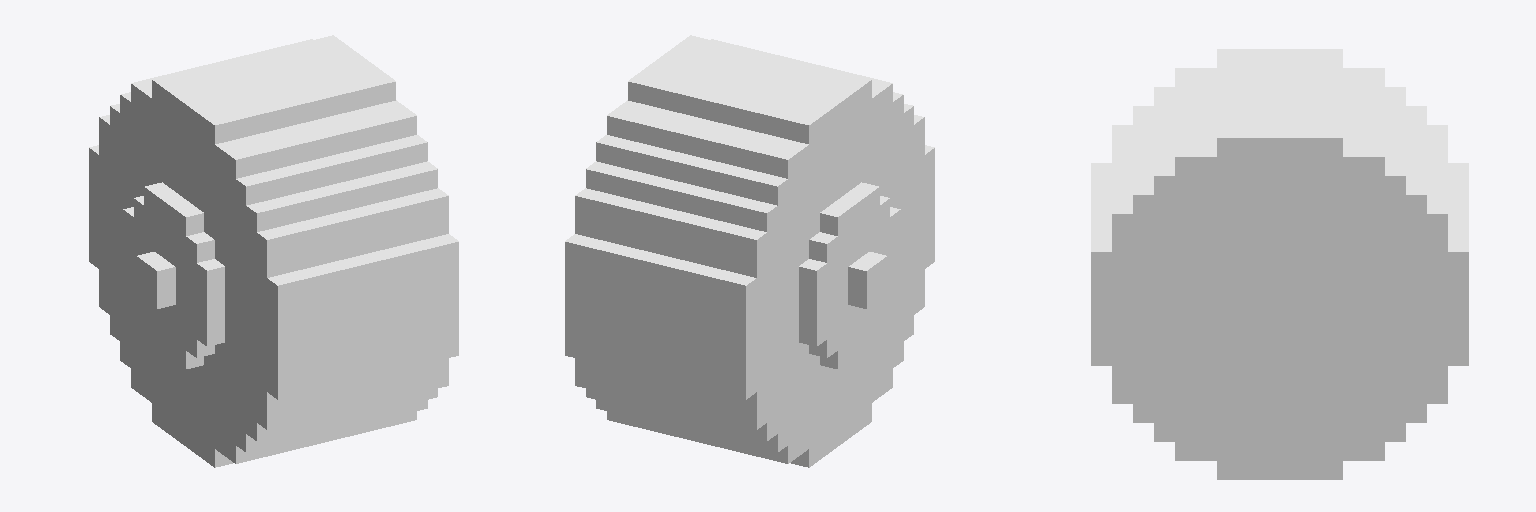
The model's file is Boss-8.obj.
3 views of the same model, side by side, from view 1: azimuth 30°, elevation 25°; view 2: azimuth 150°, elevation 25°; view 3: azimuth 270°, elevation 25° (orthographic).
Parts seen in each view (by area): view 1: Boss-8; view 2: Boss-8; view 3: Boss-8.
Boxes of the visible parts, <box> form: Boss-8: <box>89,35,458,467</box>; Boss-8: <box>565,35,934,467</box>; Boss-8: <box>1091,49,1468,479</box>.
Bounding box in the file's own units: 12 × 18 × 18.